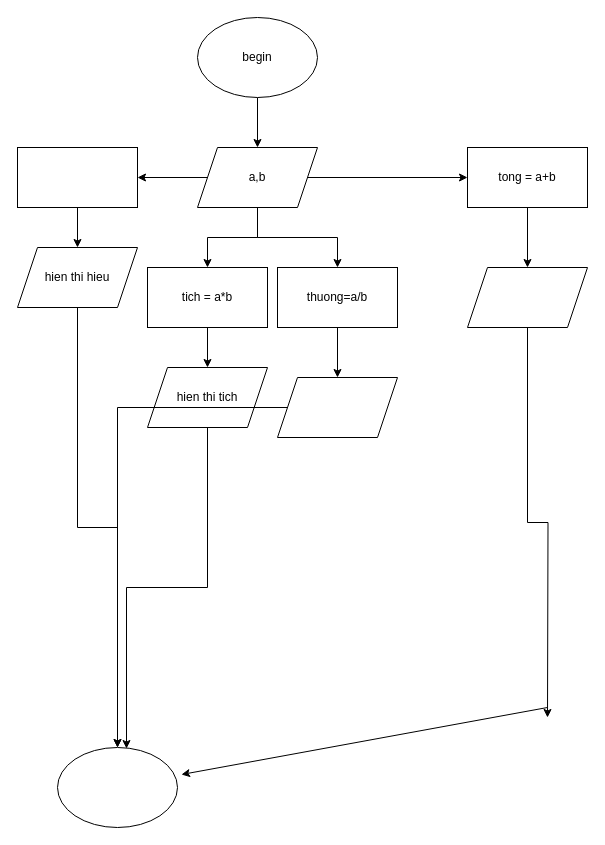
This 605x845 diagram has some shape labels left out. The shapes that lost their labels are listed below. From the top down, each one's centre as x and y in pixels, then its label:
the point at 77,177: hieu=a-b
the point at 527,297: hien thi tong
the point at 337,407: hien thi thuong
the point at 117,787: end
